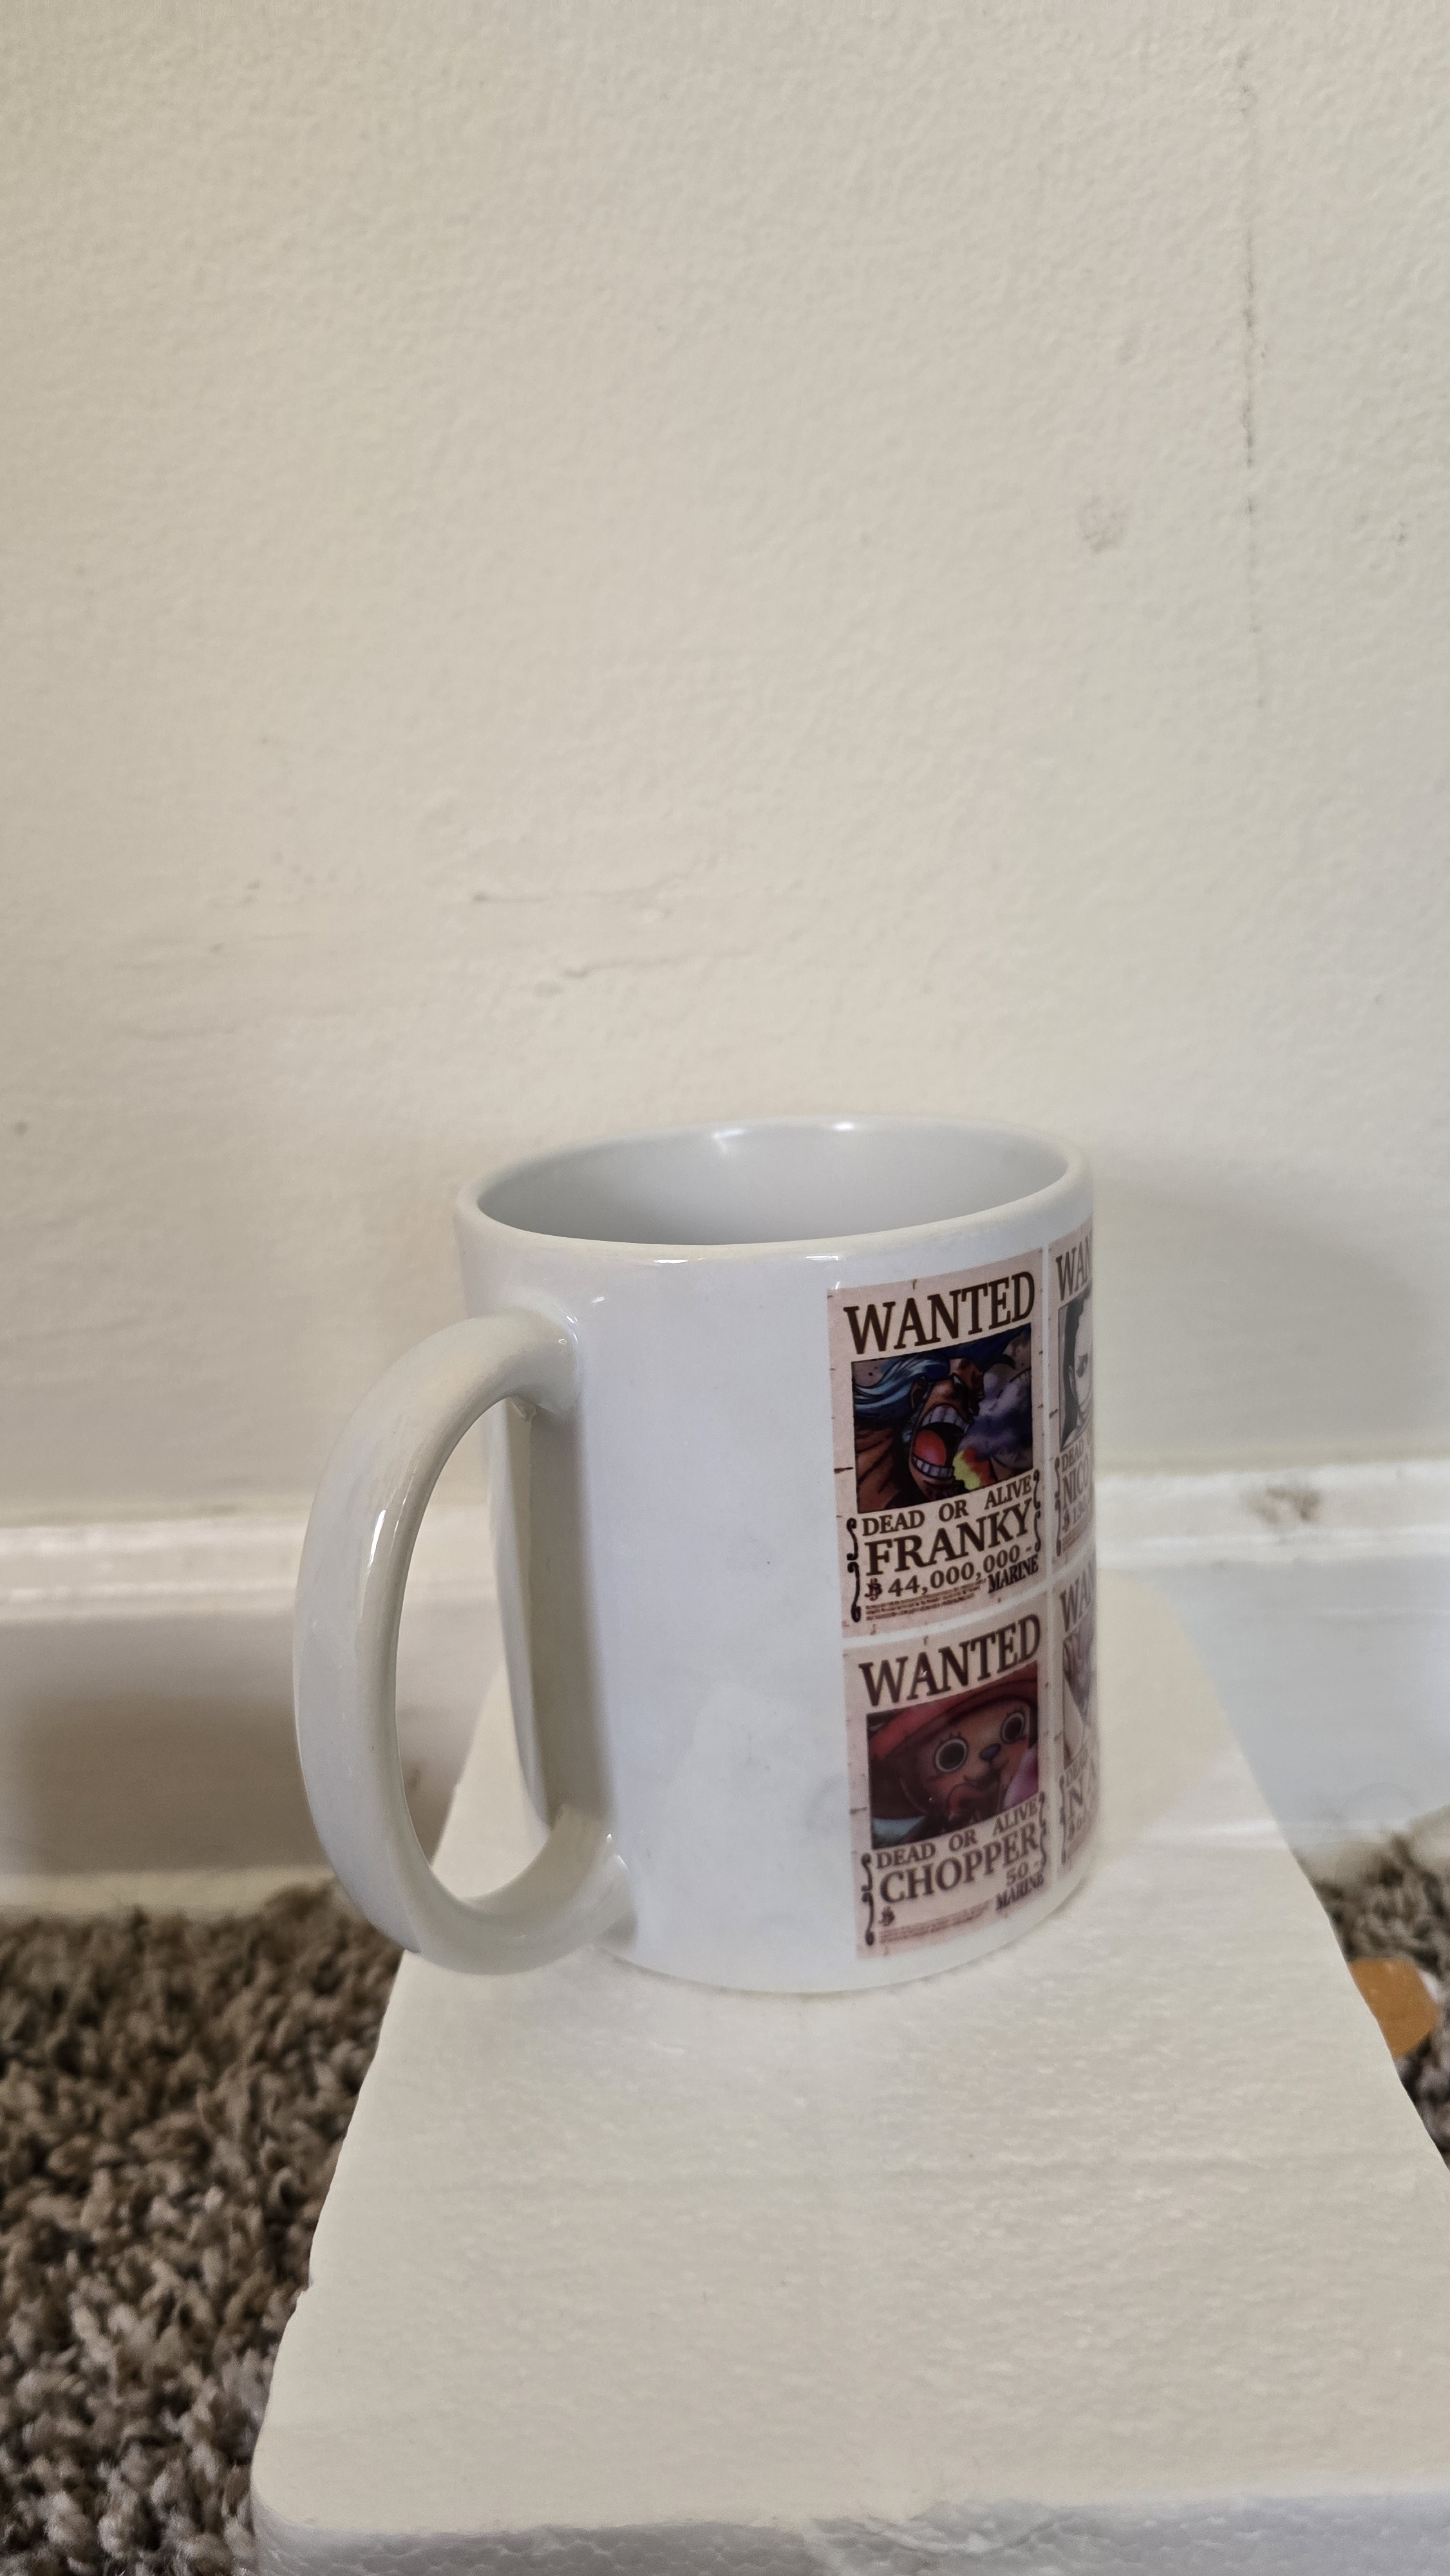mug: (262, 1081, 1215, 2036)
